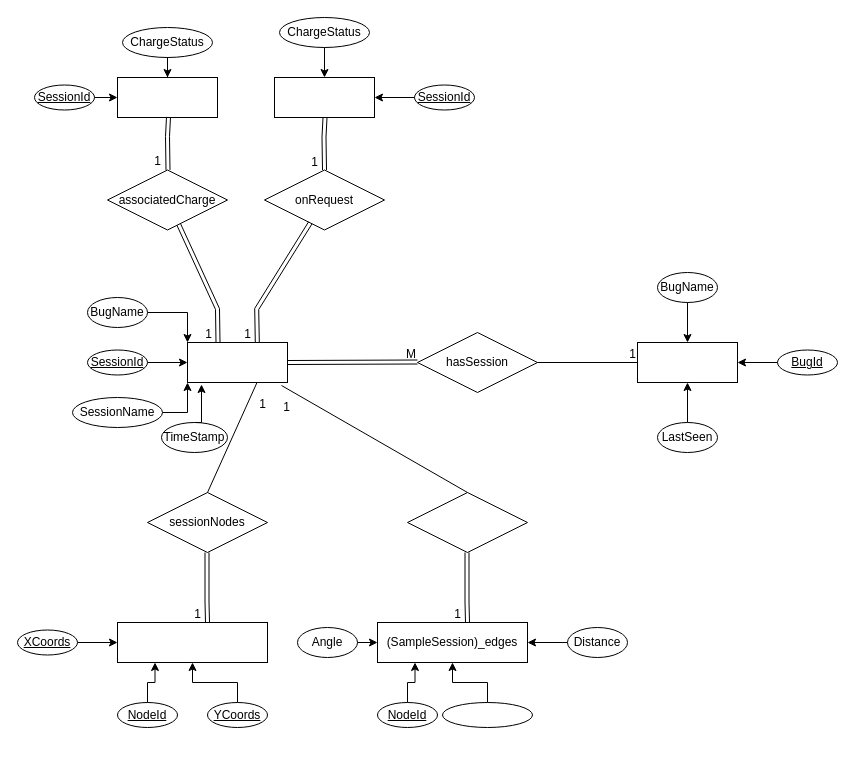
Some shapes in this 855 by 775 pixel diagram are drawn without their labels. Each missing label, with the centre of its shape:
(SampleSession)_nodes: (192,642)
BeaconCharge: (167,97)
BeaconOn: (324,97)
BugInformation: (687,362)
EdgeNodeId: (487,715)
sessionEdges: (467,522)
SessionList: (237,362)
